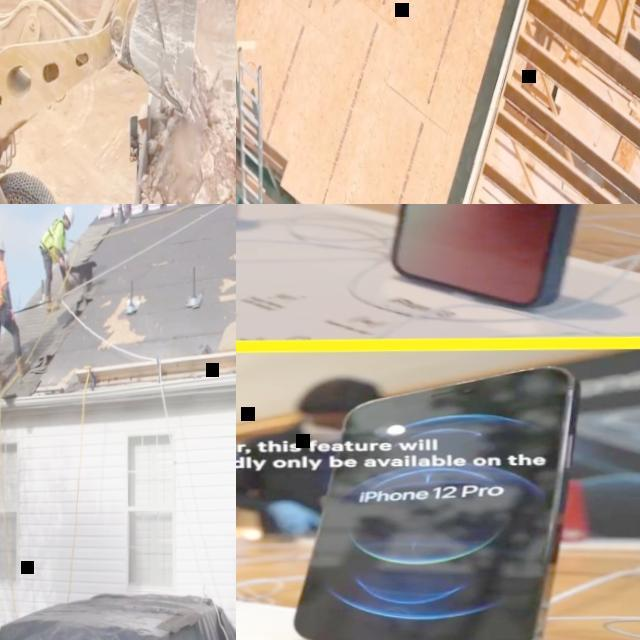Helmet: (60, 204, 76, 226), (0, 244, 7, 253)
Robbery: (42, 205, 92, 304), (0, 226, 19, 406)
